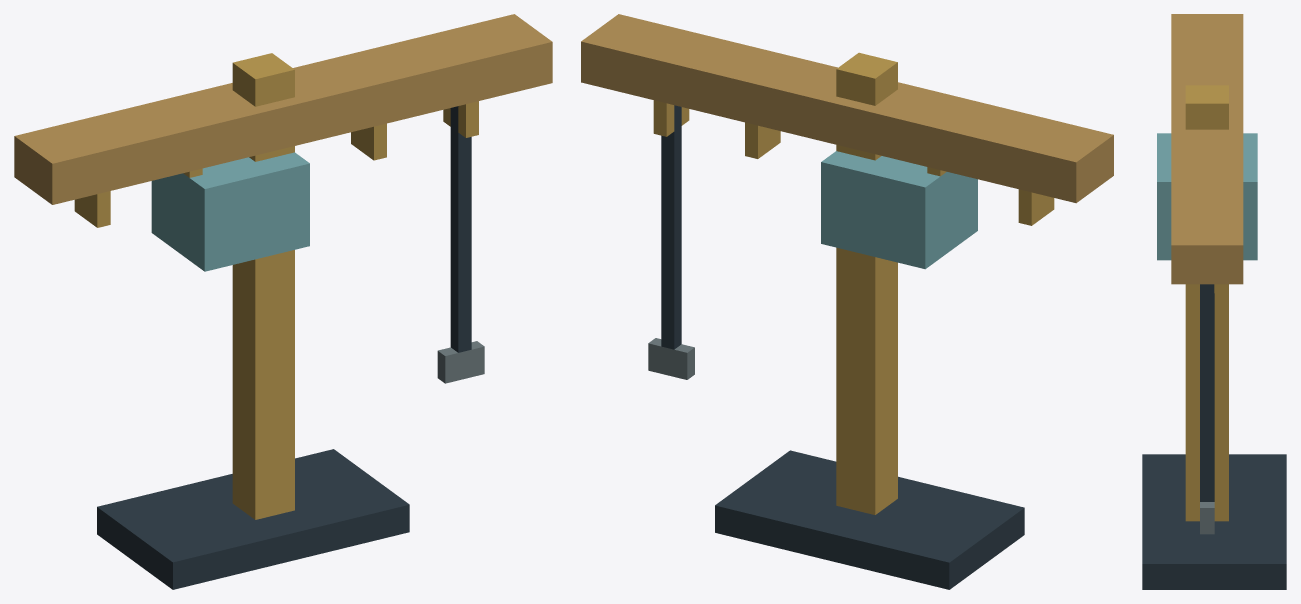
File: construction-01.glb
3 renders of one model, left to right at view 1: azimuth 30°, elevation 25°; view 2: azimuth 150°, elevation 25°; view 3: azimuth 270°, elevation 25°, orthographic. The views are drawn at different scales.
Parts seen in each view (by area): view 1: Tower crane; view 2: Tower crane; view 3: Tower crane.
Part boxes in pixels (x1,y1,x2,y2): Tower crane: (14,14,552,589); Tower crane: (581,14,1113,589); Tower crane: (1142,14,1286,589).
Size of the model in its own units: 3.04 by 2.72 by 0.8.
